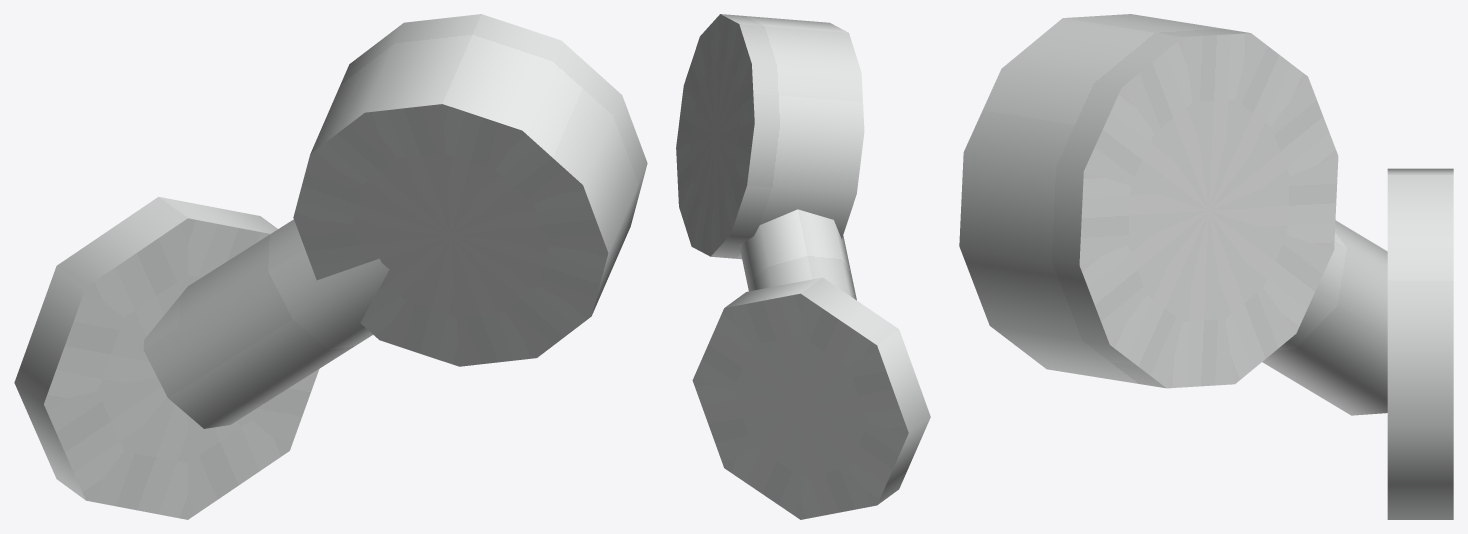
Rendered from nycsignalarm_stub_242.obj.
3 renders of one model, left to right at view 1: azimuth 30°, elevation 25°; view 2: azimuth 150°, elevation 25°; view 3: azimuth 270°, elevation 25°, orthographic. The views are drawn at different scales.
Visible parts, largest first — view 1: nycsignalarm_stub_242; view 2: nycsignalarm_stub_242; view 3: nycsignalarm_stub_242.
Boxes of the visible parts, x1,y1,x2,y2 form: nycsignalarm_stub_242: [14, 14, 647, 519]; nycsignalarm_stub_242: [676, 14, 930, 519]; nycsignalarm_stub_242: [959, 14, 1453, 519].
Bounding box in the file's own units: 0.5665 × 0.6071 × 0.463.
